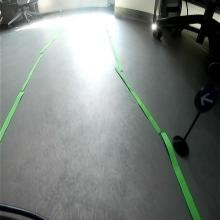left: (192, 85, 220, 114)
